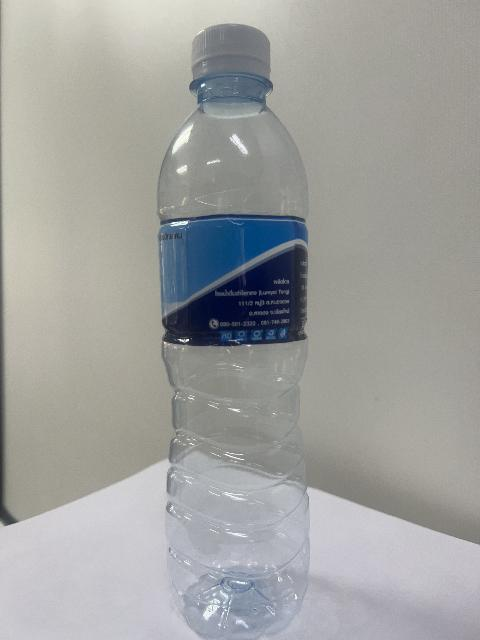bottle: (159, 25, 309, 639)
